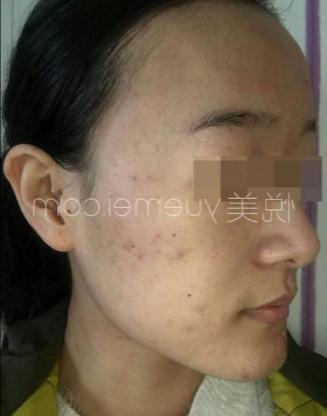Blackheads: (164, 229, 181, 242), (181, 289, 198, 302)
acne scar: (121, 236, 145, 263), (173, 243, 190, 263), (150, 226, 165, 245), (151, 243, 166, 258), (237, 368, 254, 381), (129, 170, 142, 184)
